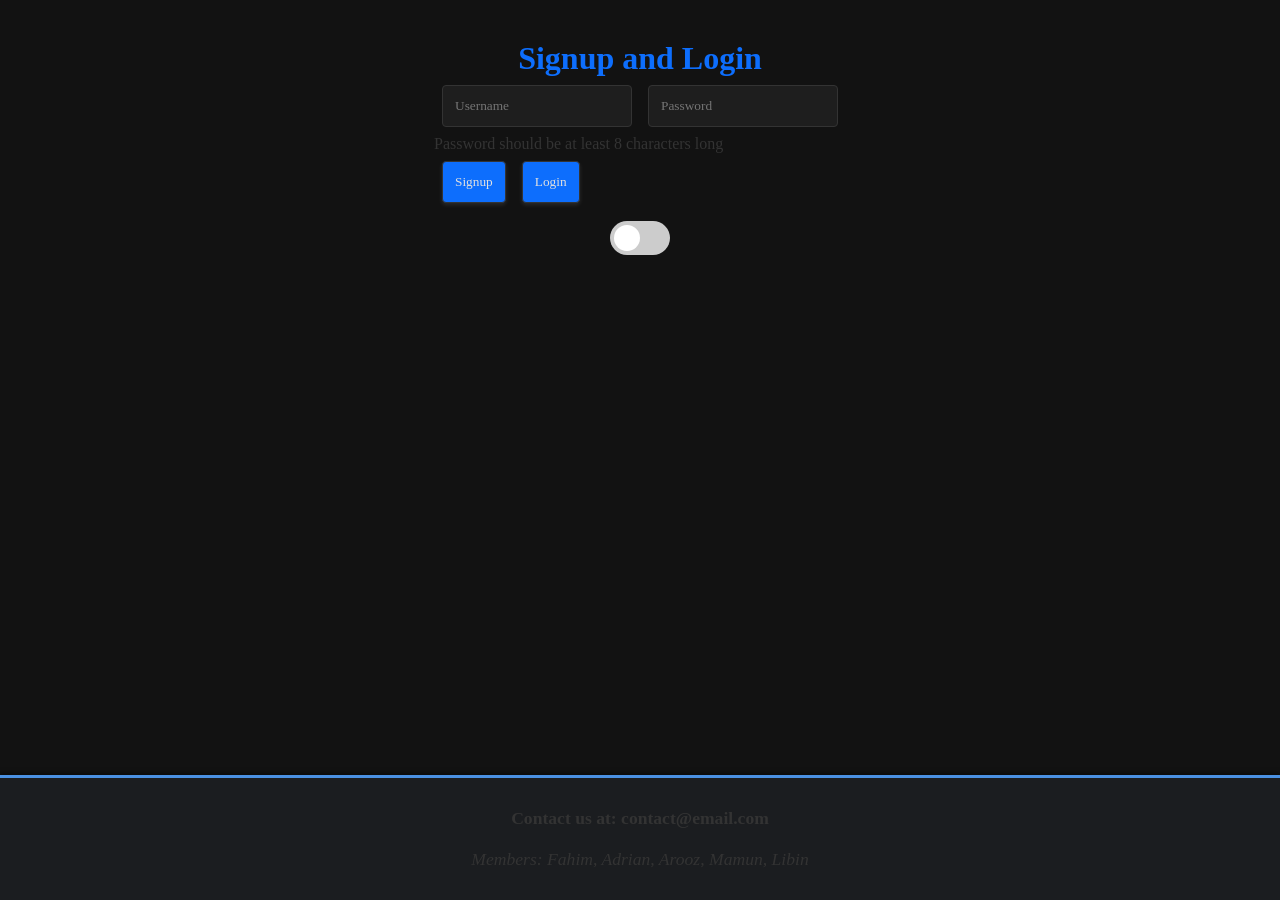
Test case: App component › displays an error message for unsuccessful signup
Type "testUser" into the field with placeholder "Username".
click(537, 106); type("testUser")  # box top-left (442, 85), bottom-right (632, 127)
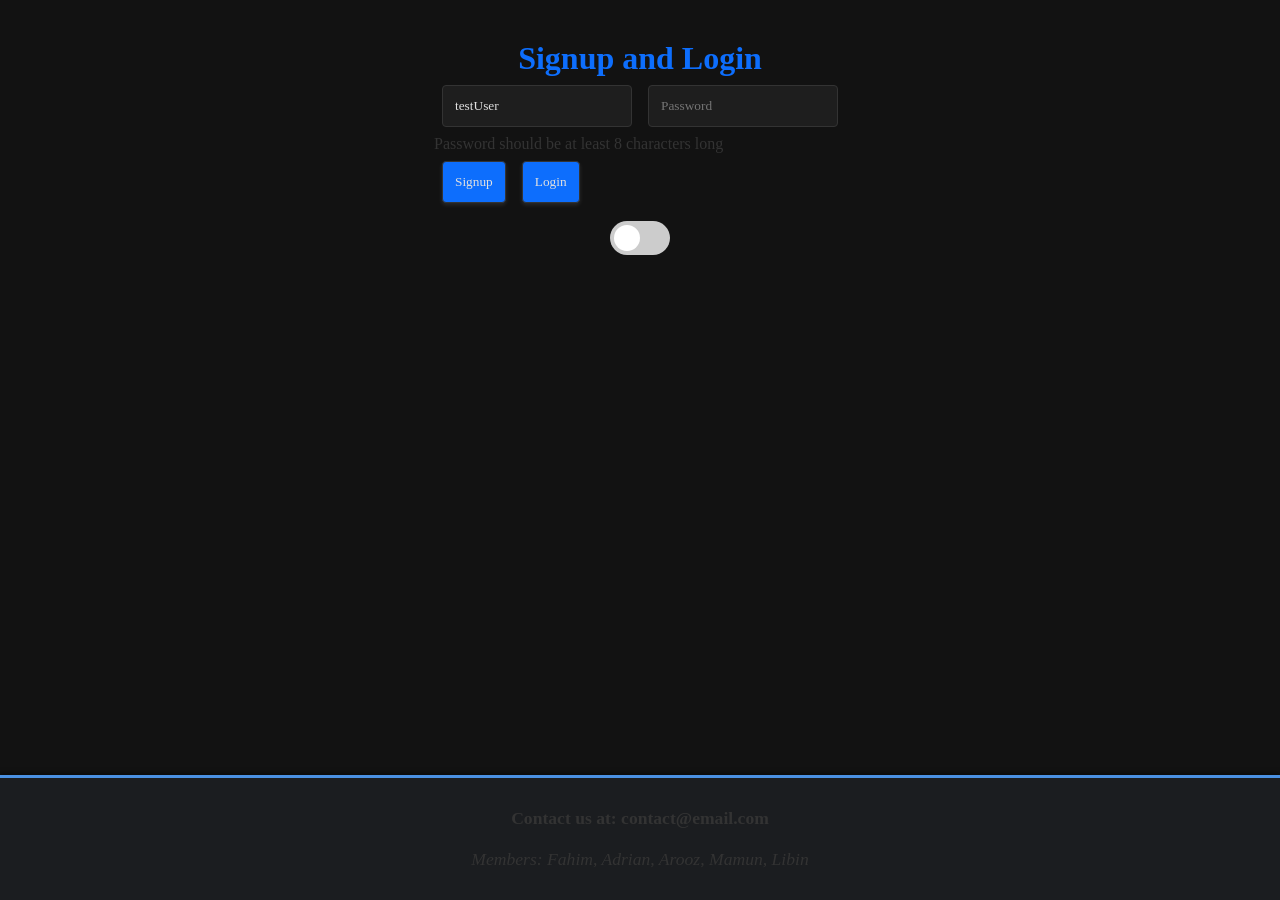
Type "testPassword" into the password field with placeholder "Password".
click(743, 106); type("testPassword")  # box top-left (648, 85), bottom-right (838, 127)
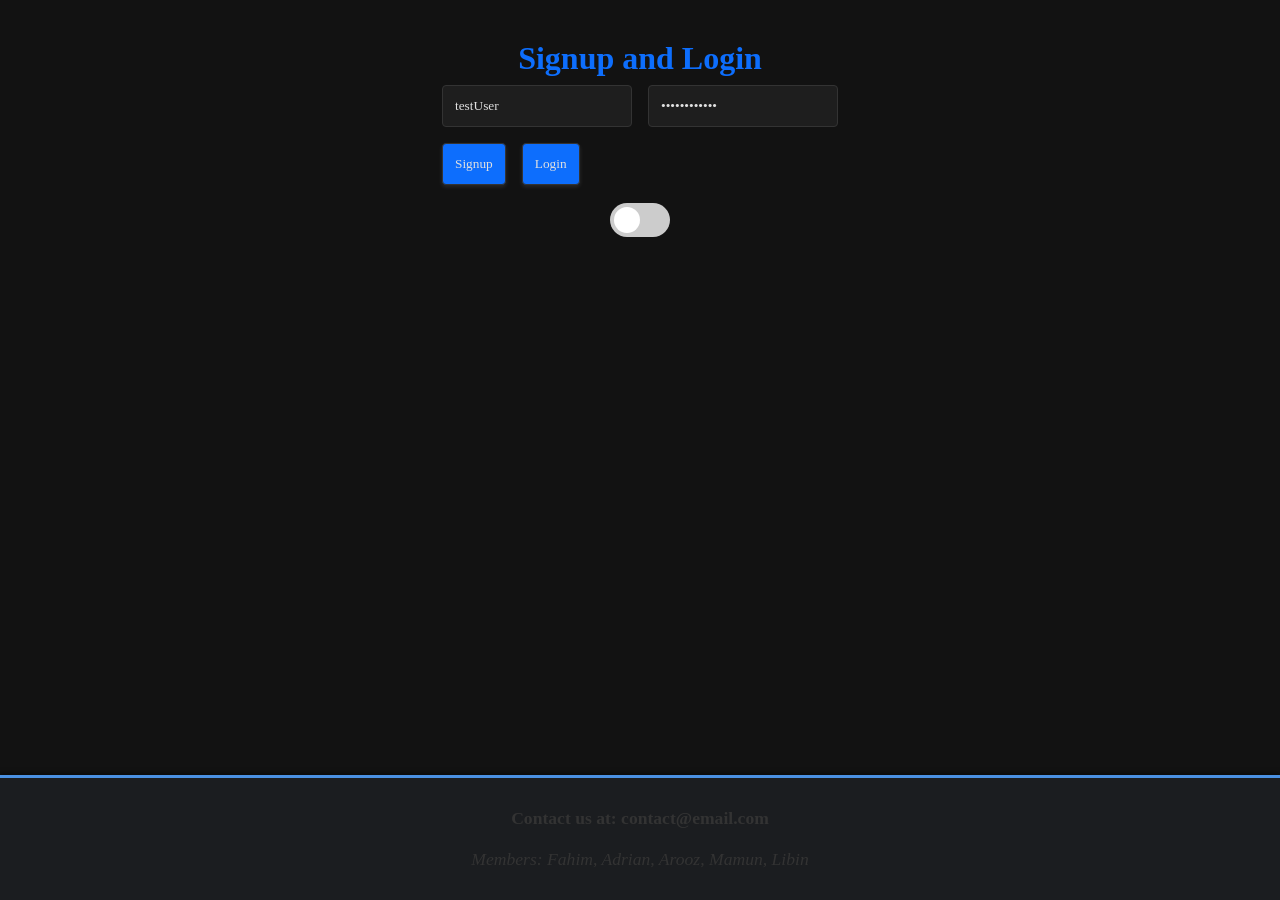
Click the button "Signup".
click(474, 164)  # box top-left (442, 143), bottom-right (506, 185)
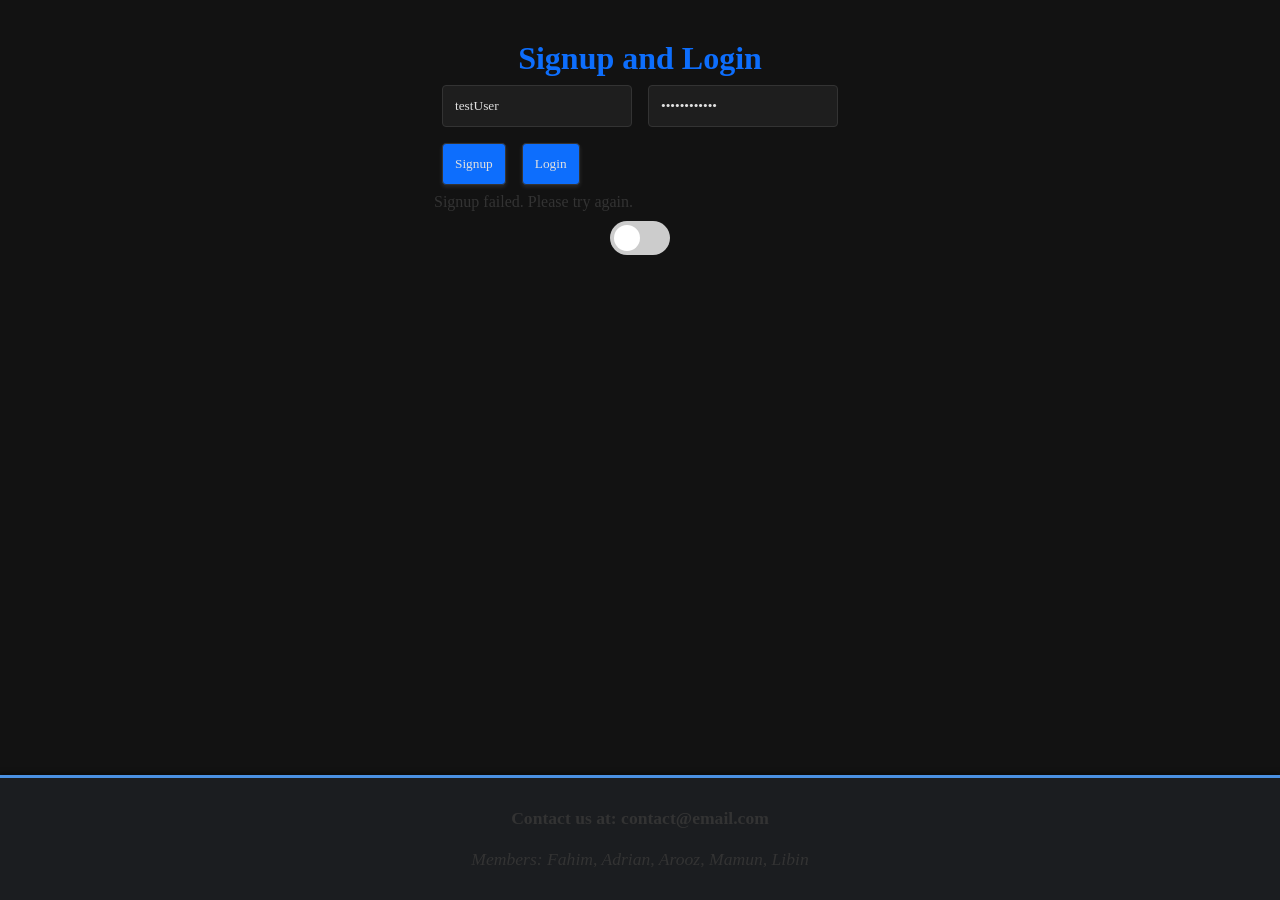
Check: the text "Signup failed. Please try again." is shown, box top-left (434, 193), bottom-right (633, 210)
